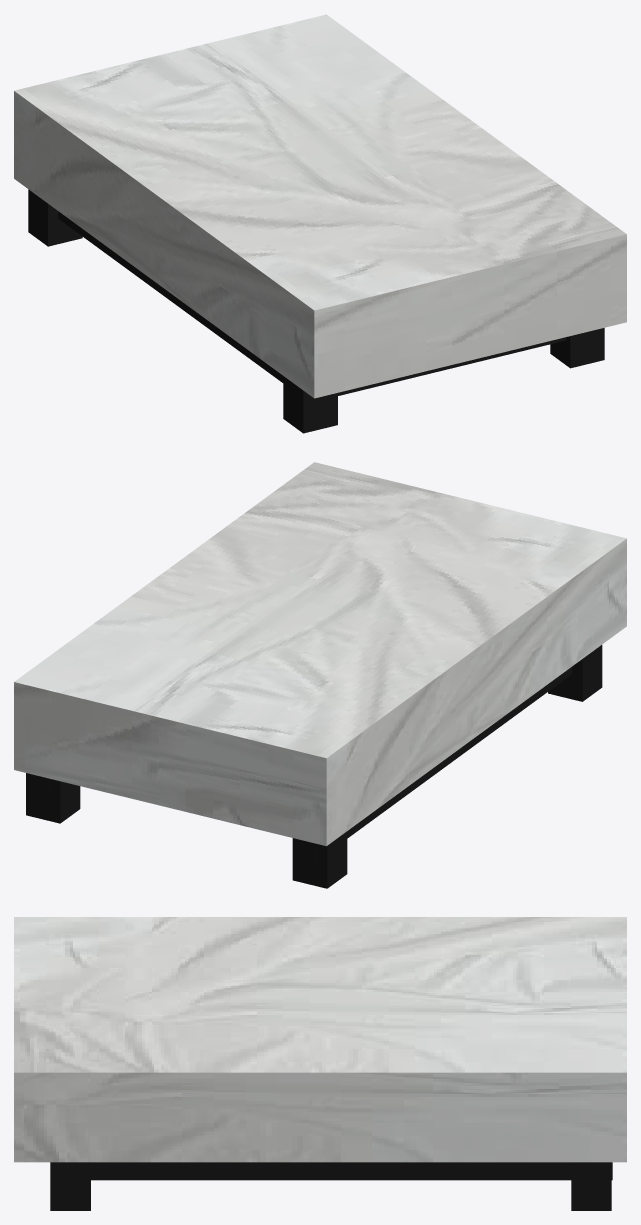
Rendered from bed.glb.
3 renders of one model, top to bottom at view 1: azimuth 30°, elevation 25°; view 2: azimuth 150°, elevation 25°; view 3: azimuth 270°, elevation 25°, orthographic. The views are drawn at different scales.
Visible parts, largest first — view 1: bed-col; view 2: bed-col; view 3: bed-col.
Boxes of the visible parts, <box> form: bed-col: <box>14,14,626,433</box>; bed-col: <box>14,462,626,888</box>; bed-col: <box>14,917,626,1210</box>.
Bounding box in the file's own units: 3.37 × 1.42 × 5.61.
3 materials, 2 textured.
